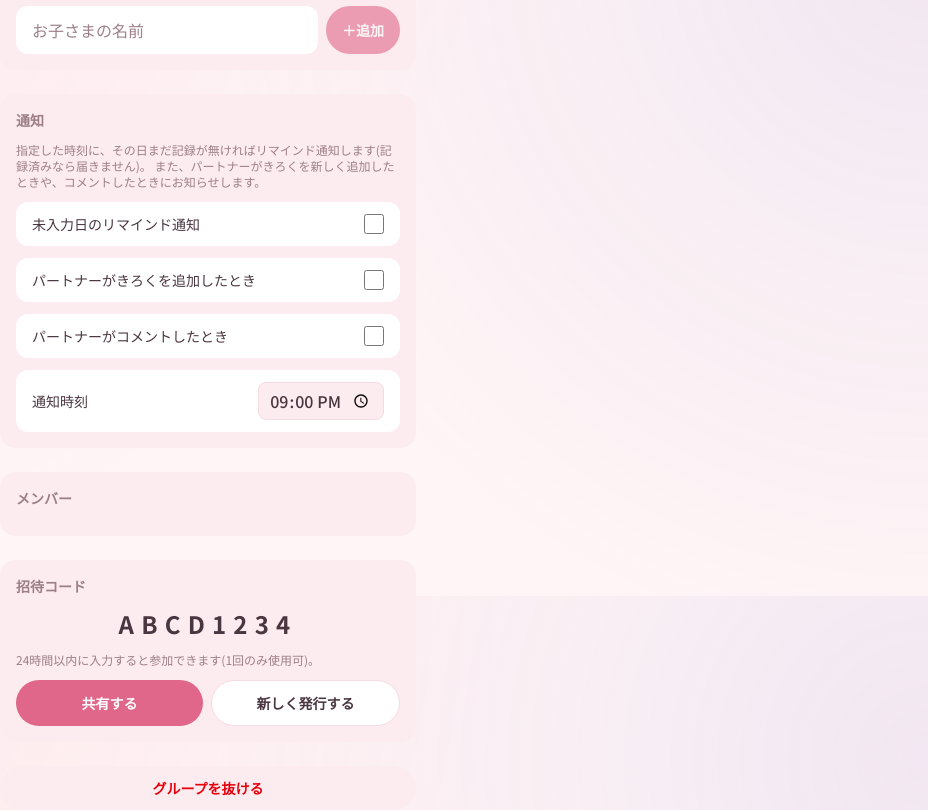
Test: GroupPage: 招待コードの共有 › 「新しく発行する」で招待コードを再発行する
The image size is (928, 810).
(page scrolled)
Check: the text "ABCD1234" is shown, box [119,606,298,641]
What coordinates should you click on to do the following:
click the button "新しく発行する"
I would click on:
 (306, 703)
Its box is [211,680,400,726].
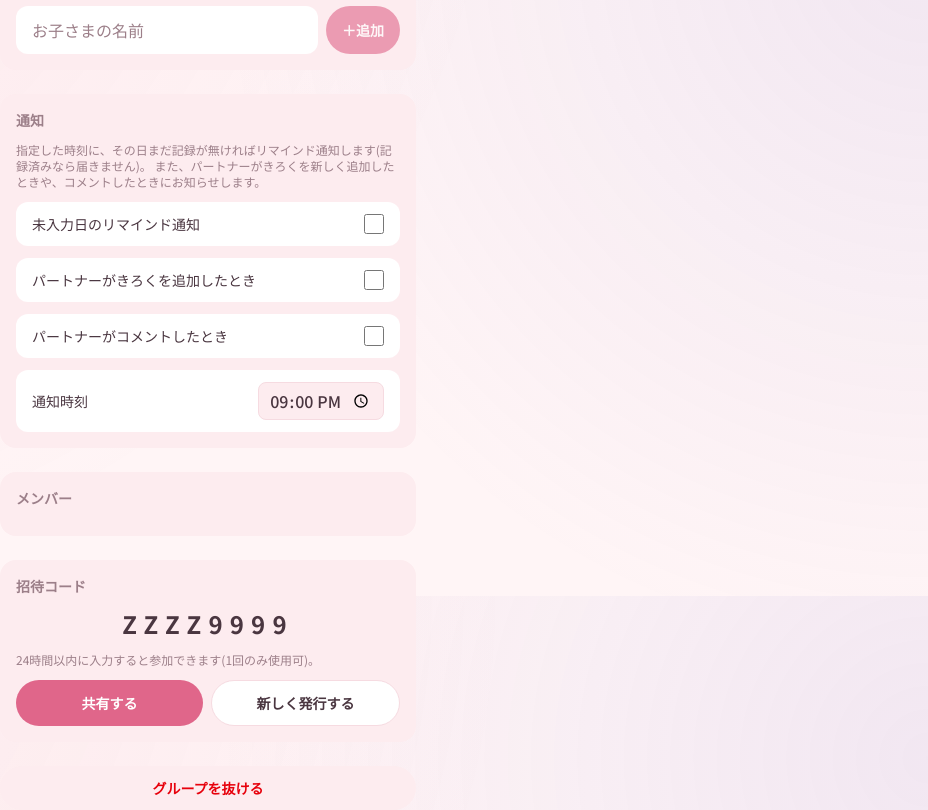
Check: the text "ZZZZ9999" is shown, box [122,606,294,641]
